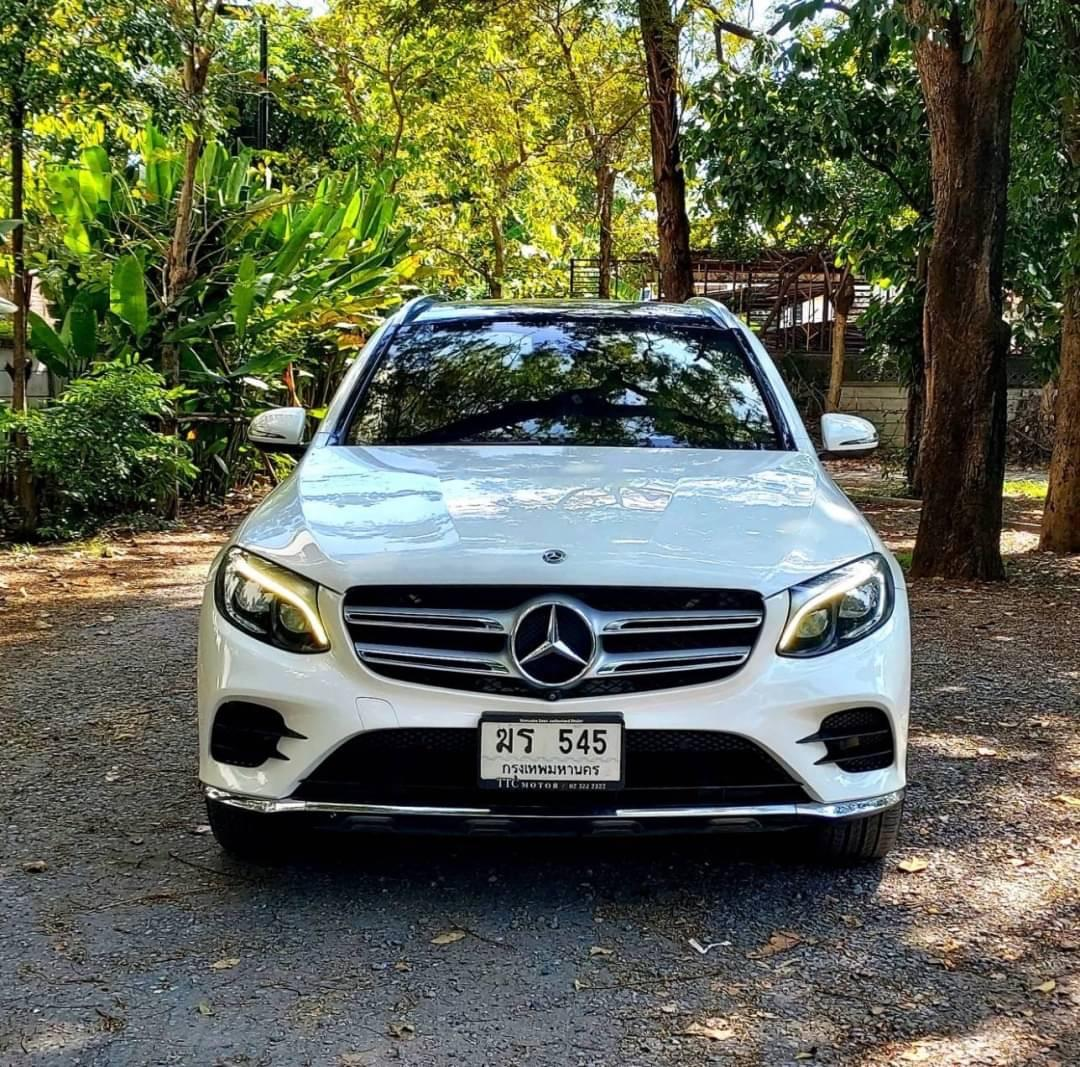license-plate: (481, 709, 627, 790)
